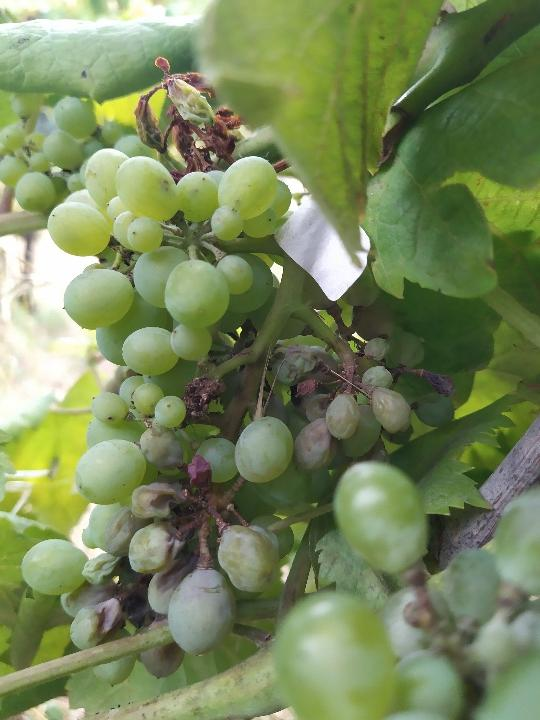grape: (17, 143, 416, 666)
